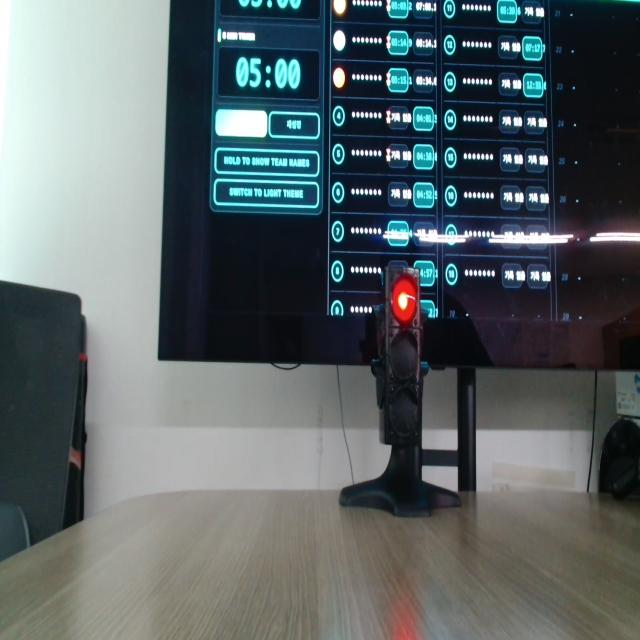red_light: (391, 276, 417, 324)
